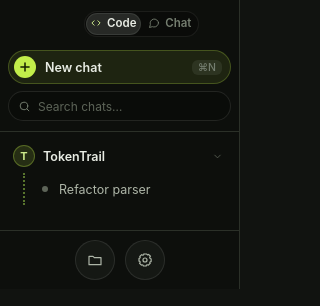
Test case: Sidebar collapsible projects › reflects the collapsed state on the chevron button
This screenshot has width=320, height=306.
Click the button named "Collapse TokenTrail" at (217, 156), box [207,146,227,166]
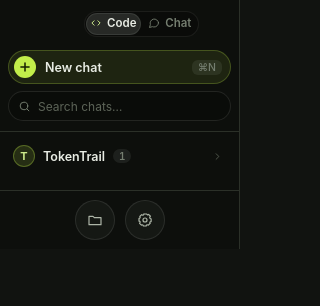
Now the button named "Expand TokenTrail" is collapsed, box [207,146,227,166]
